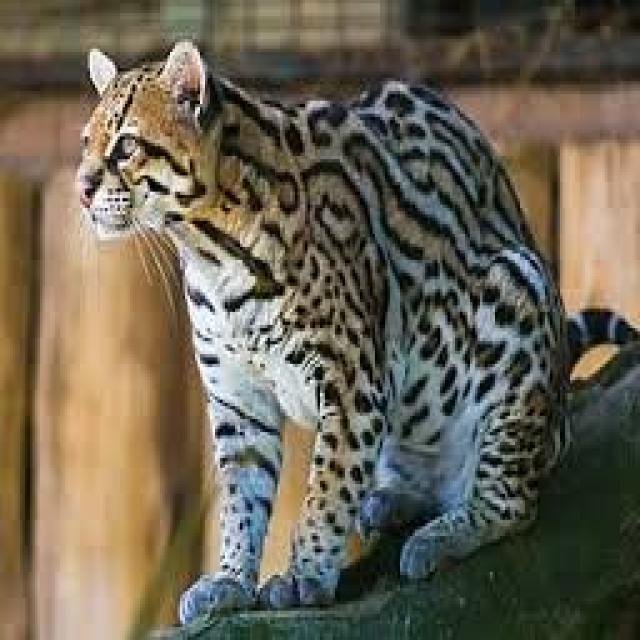Jaguar: (70, 42, 585, 614)
